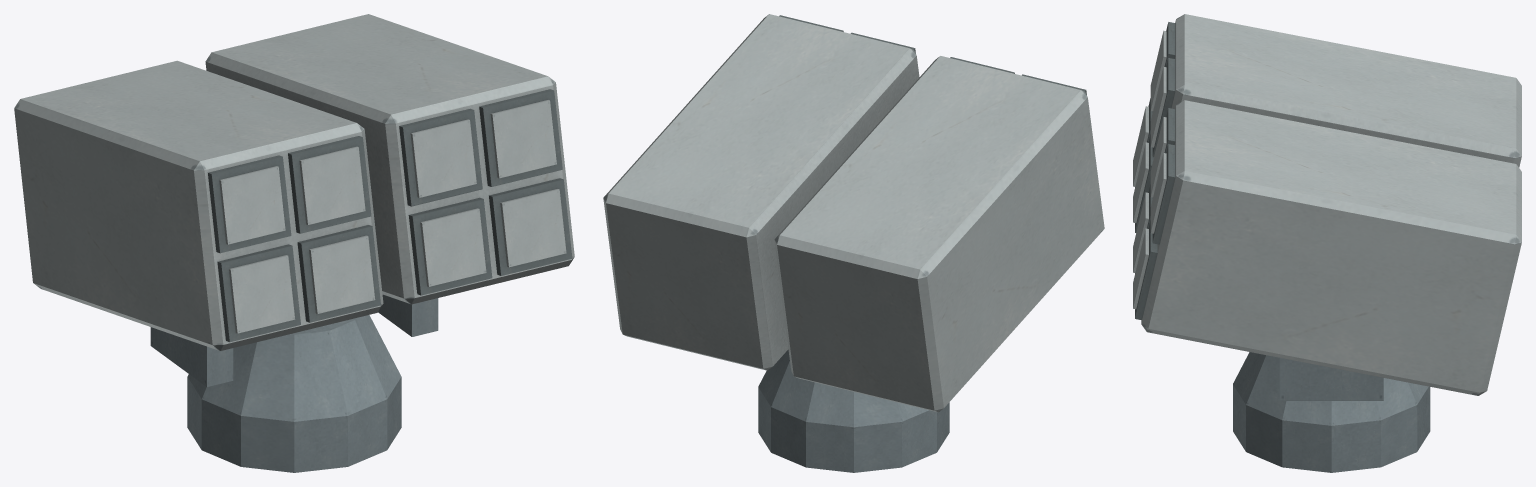
File: mount_spruance_seasparrow_metric.glb
The picture shows the model from 3 angles, left to right: view 1: azimuth 30°, elevation 25°; view 2: azimuth 150°, elevation 25°; view 3: azimuth 270°, elevation 25°; orthographic projection. The views are drawn at different scales.
Visible parts, largest first — view 1: MESH_SPRUANCE_TEMPLATE_seasparrow.006; view 2: MESH_SPRUANCE_TEMPLATE_seasparrow.006; view 3: MESH_SPRUANCE_TEMPLATE_seasparrow.006.
Part boxes in pixels (x1,y1,x2,y2): MESH_SPRUANCE_TEMPLATE_seasparrow.006: (14, 14, 574, 472); MESH_SPRUANCE_TEMPLATE_seasparrow.006: (603, 14, 1104, 472); MESH_SPRUANCE_TEMPLATE_seasparrow.006: (1133, 14, 1521, 472).
Bounding box in the file's own units: 3.71 × 3.59 × 3.74.
1 material, 1 textured.
